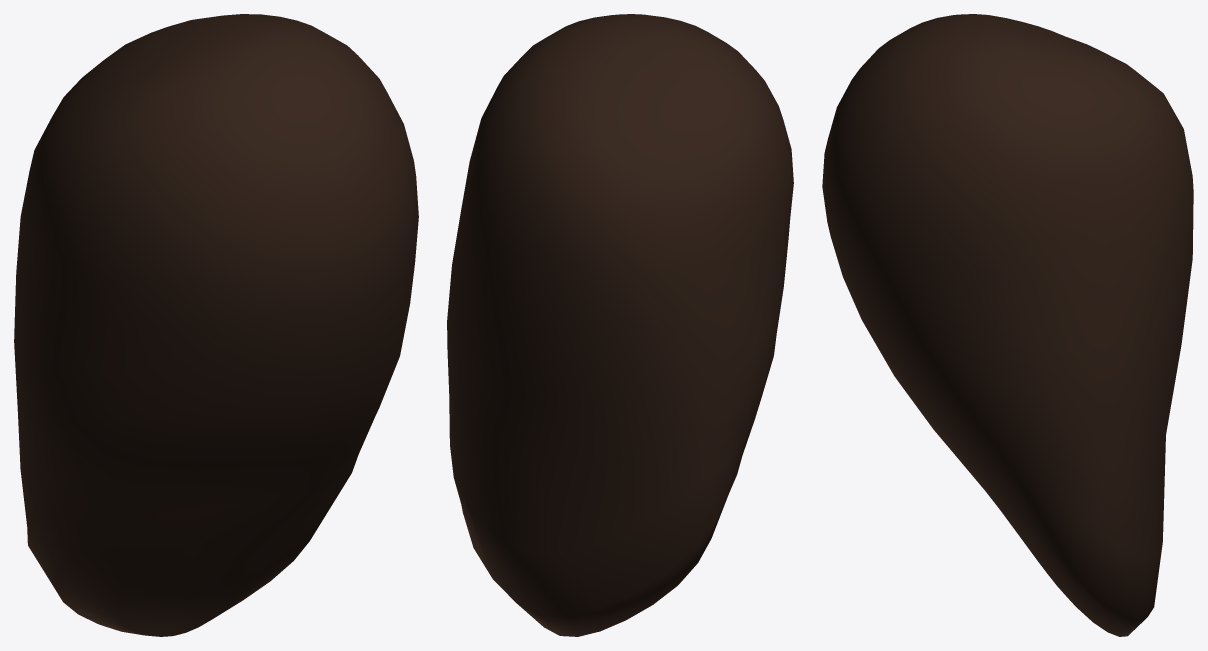
Rendered from Hair1F.glb.
The picture shows the model from 3 angles, left to right: view 1: azimuth 30°, elevation 25°; view 2: azimuth 150°, elevation 25°; view 3: azimuth 270°, elevation 25°; orthographic projection. The views are drawn at different scales.
Visible parts, largest first — view 1: Hair1F.001; view 2: Hair1F.001; view 3: Hair1F.001.
Boxes of the visible parts, x1=… form: Hair1F.001: x1=14, y1=14, x2=418, y2=636; Hair1F.001: x1=447, y1=14, x2=793, y2=636; Hair1F.001: x1=822, y1=14, x2=1193, y2=636.
Bounding box in the file's own units: 2.77 × 4.99 × 2.81.
